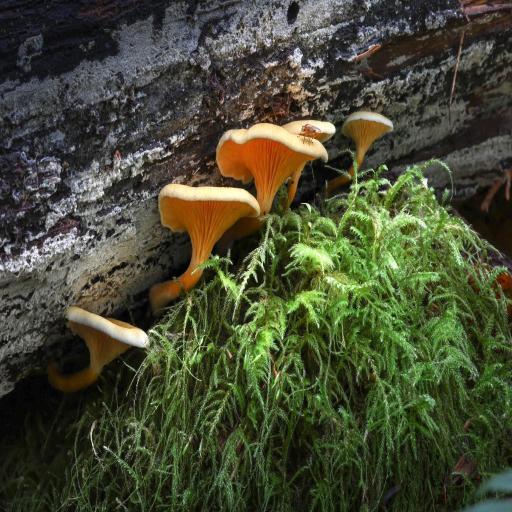Jack O Lantern Mushroom: (101, 150, 269, 321), (201, 92, 329, 220), (43, 306, 154, 414), (310, 102, 392, 192), (284, 115, 338, 140)
